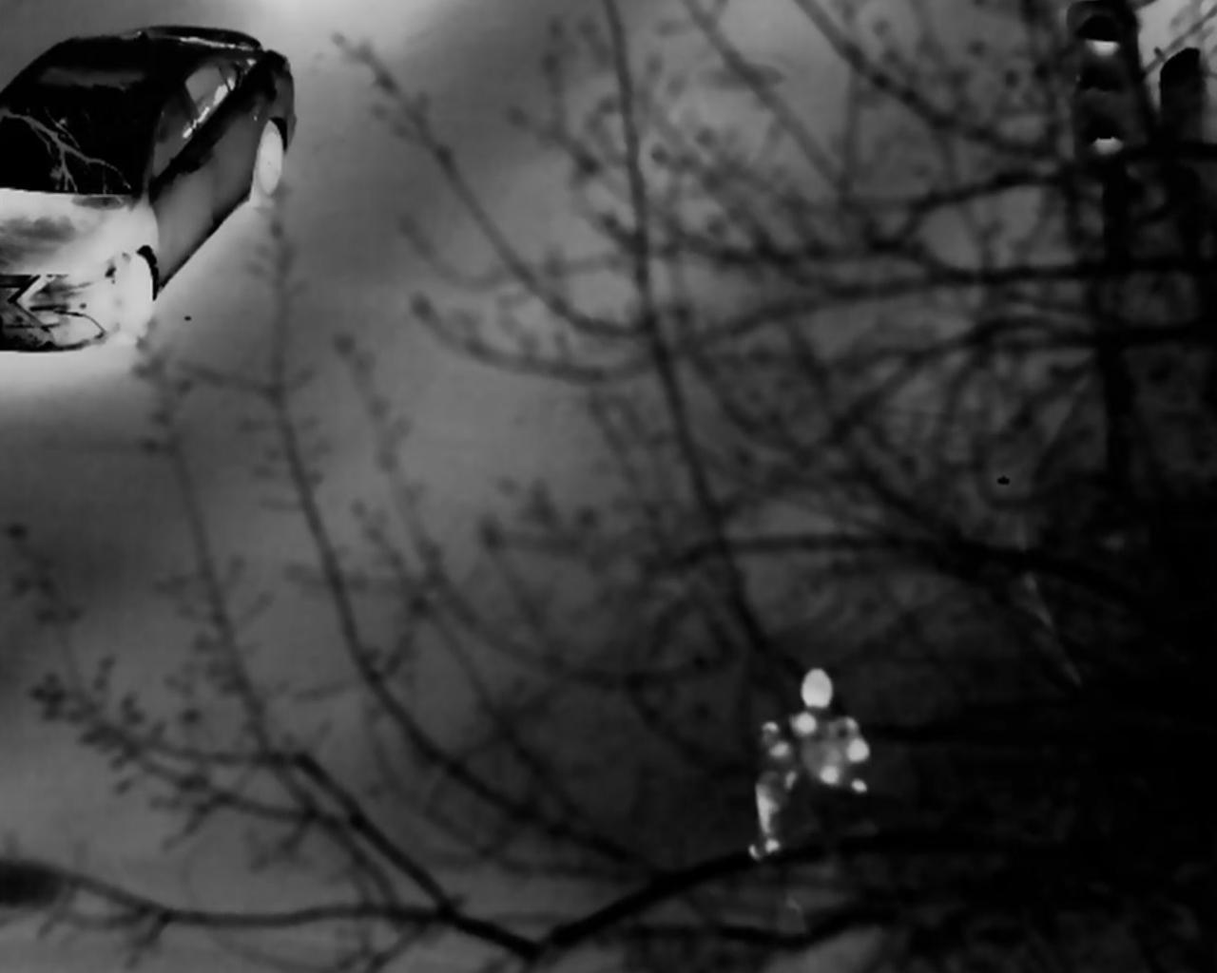person: (760, 654, 869, 870)
